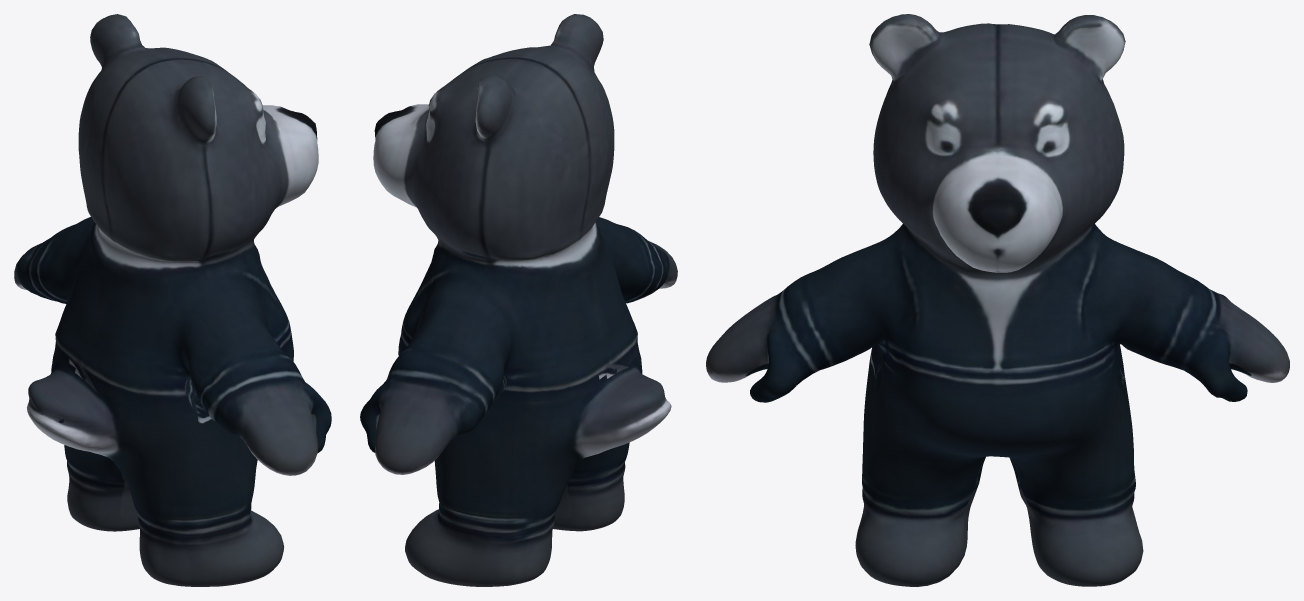
File: grey_bear_in_a_work_preview_2.glb
The picture shows the model from 3 angles, left to right: view 1: azimuth 30°, elevation 25°; view 2: azimuth 150°, elevation 25°; view 3: azimuth 270°, elevation 25°; orthographic projection. The views are drawn at different scales.
Visible parts, largest first — view 1: mesh; view 2: mesh; view 3: mesh.
Boxes of the visible parts, box(x1,y1,x2,y2) form: mesh: box(14, 14, 331, 586); mesh: box(360, 14, 677, 586); mesh: box(706, 14, 1289, 586).
Size of the model in its own units: 0.5873 by 0.9996 by 0.973.
1 material, 1 textured.
